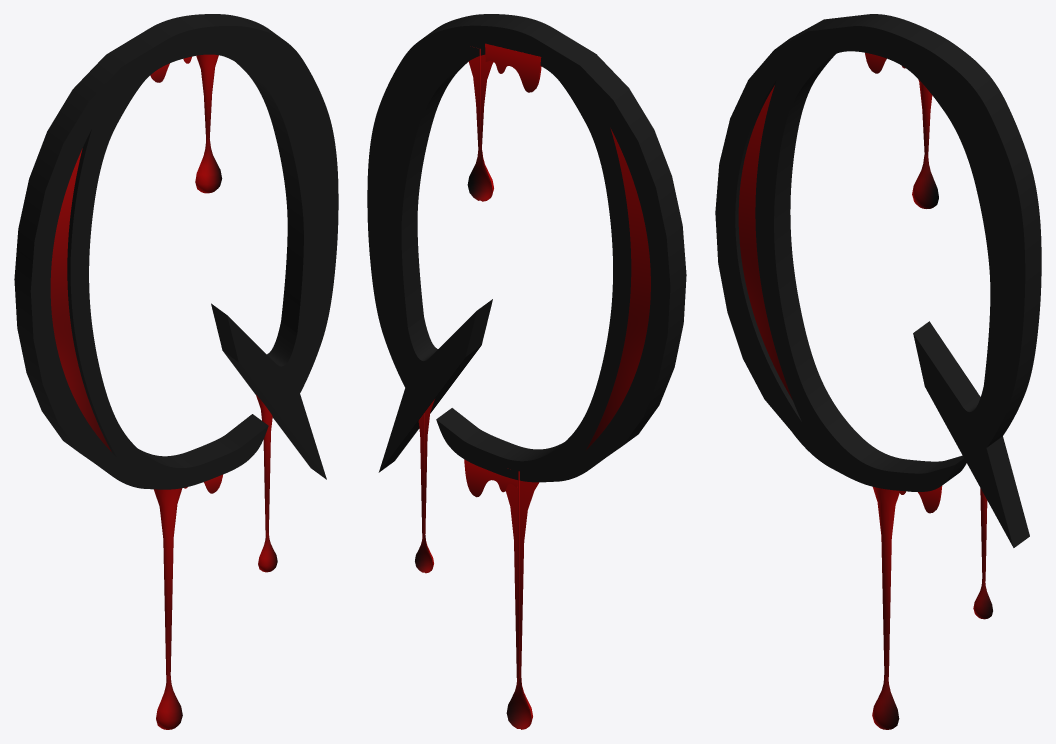
The picture shows the model from 3 angles, left to right: view 1: azimuth 30°, elevation 25°; view 2: azimuth 150°, elevation 25°; view 3: azimuth 330°, elevation 25°; orthographic projection. The views are drawn at different scales.
Visible parts, largest first — view 1: Q, Q_Element, Blood_008, Blood_007, Blood_018; view 2: Q, Q_Element, Blood_008, Blood_007, Blood_026, Blood_018, Blood_009; view 3: Q, Q_Element, Blood_008, Blood_007, Blood_018.
Boxes of the visible parts, <box> form: Q: <box>14,14,338,489</box>; Q_Element: <box>50,148,111,451</box>; Blood_008: <box>154,488,182,729</box>; Blood_007: <box>195,54,222,193</box>; Blood_018: <box>256,395,277,572</box>; Q: <box>367,14,686,482</box>; Q_Element: <box>586,128,650,449</box>; Blood_008: <box>505,471,539,729</box>; Blood_007: <box>467,49,493,201</box>; Blood_026: <box>485,43,541,92</box>; Blood_018: <box>415,399,434,573</box>; Blood_009: <box>464,459,517,497</box>; Q: <box>715,14,1041,547</box>; Q_Element: <box>738,85,792,399</box>; Blood_008: <box>872,487,899,729</box>; Blood_007: <box>912,79,938,208</box>; Blood_018: <box>973,488,992,619</box>.
Size of the model in its own units: 54.53 by 120 by 5.05.
2 materials, 1 textured.
